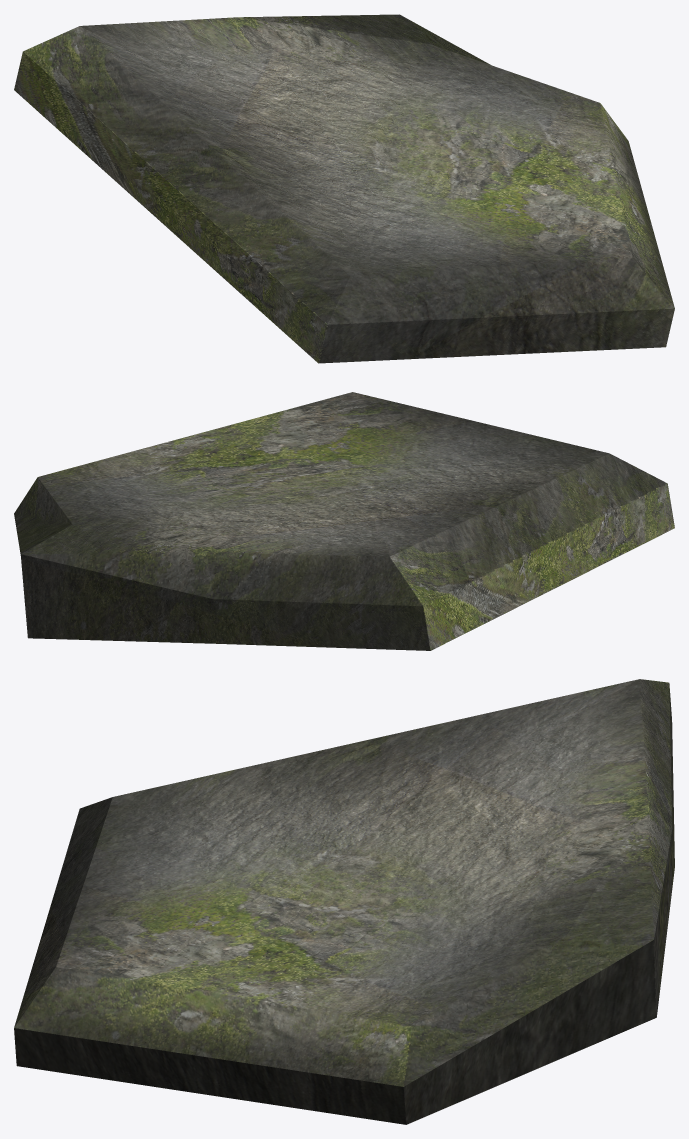
Rendered from prop_v2_0.obj.
3 renders of one model, top to bottom at view 1: azimuth 30°, elevation 25°; view 2: azimuth 150°, elevation 25°; view 3: azimuth 270°, elevation 25°, orthographic. The views are drawn at different scales.
Parts seen in each view (by area): view 1: prop_v2_0_Plane.006; view 2: prop_v2_0_Plane.006; view 3: prop_v2_0_Plane.006.
Boxes of the visible parts, box(x1,y1,x2,y2) form: prop_v2_0_Plane.006: box(14, 14, 674, 363); prop_v2_0_Plane.006: box(14, 392, 674, 650); prop_v2_0_Plane.006: box(14, 679, 674, 1124).
Bounding box in the file's own units: 0.1419 × 0.0531 × 0.146.
